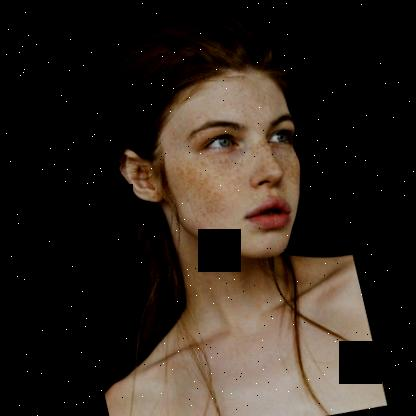Female: (101, 51, 320, 287)
